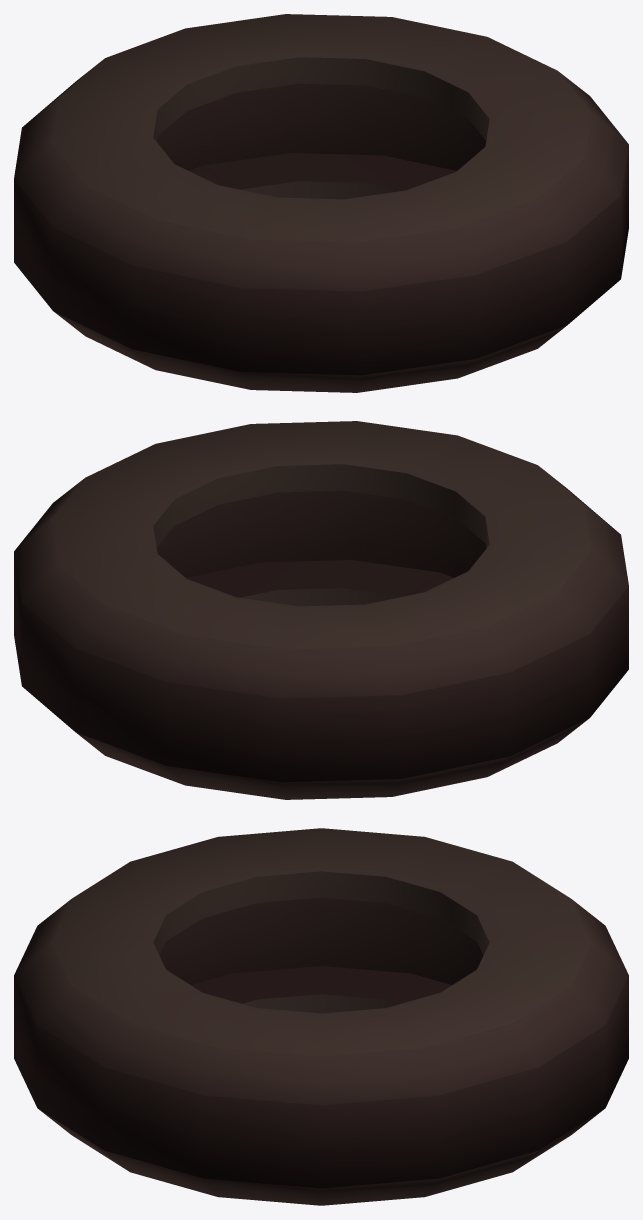
Rendered from SM_Tire_01.fbx.
3 views of the same model, one above another, from view 1: azimuth 30°, elevation 25°; view 2: azimuth 150°, elevation 25°; view 3: azimuth 270°, elevation 25° (orthographic).
Visible parts, largest first — view 1: SM_Tire_01; view 2: SM_Tire_01; view 3: SM_Tire_01.
Boxes of the visible parts, x1,y1,x2,y2 form: SM_Tire_01: (14, 14, 628, 392); SM_Tire_01: (14, 421, 628, 799); SM_Tire_01: (14, 828, 628, 1205).
Size of the model in its own units: 0.8 by 0.214 by 0.8.
